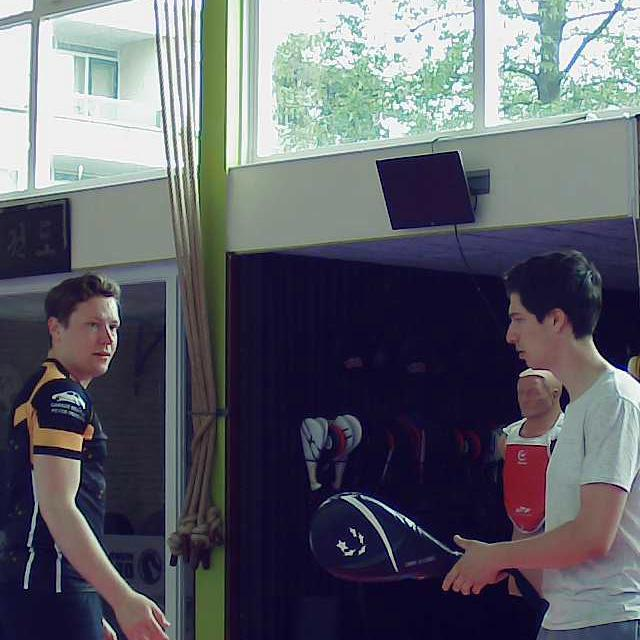paddle: (307, 488, 486, 590)
